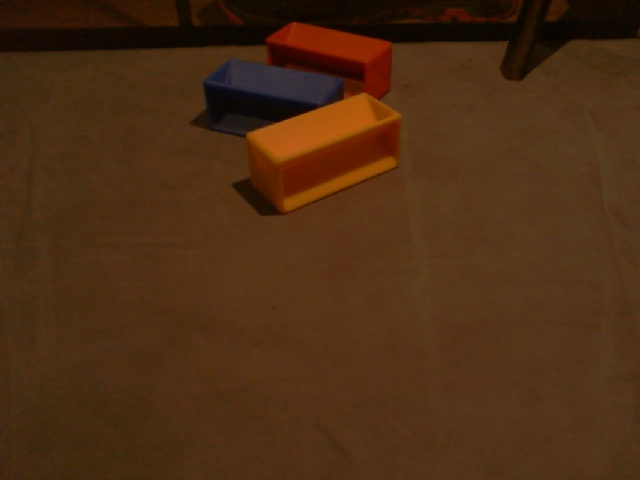BlueSample: (200, 58, 345, 152)
RedSample: (264, 20, 393, 101)
YellowSample: (240, 93, 402, 218)
